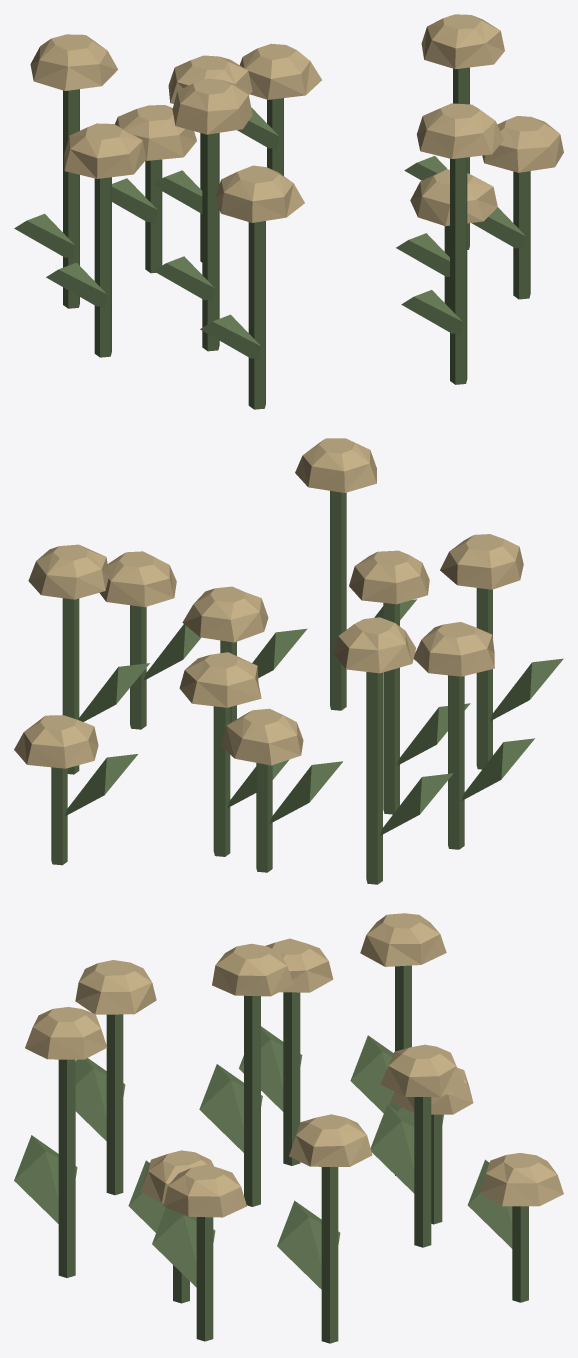
File: Decor_Wildflowers.fbx
3 views of the same model, one above another, from view 1: azimuth 30°, elevation 25°; view 2: azimuth 150°, elevation 25°; view 3: azimuth 270°, elevation 25° (orthographic). The views are drawn at different scales.
Parts seen in each view (by area): view 1: Decor_Wildflowers; view 2: Decor_Wildflowers; view 3: Decor_Wildflowers.
Boxes of the visible parts, box(x1,y1,x2,y2) form: Decor_Wildflowers: box(14, 14, 563, 409); Decor_Wildflowers: box(14, 438, 563, 884); Decor_Wildflowers: box(14, 913, 563, 1343).
Size of the model in its own units: 1.49 by 0.8082 by 1.55.
